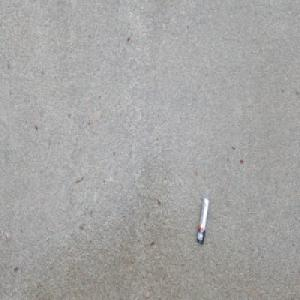Battery: (195, 196, 209, 246)
